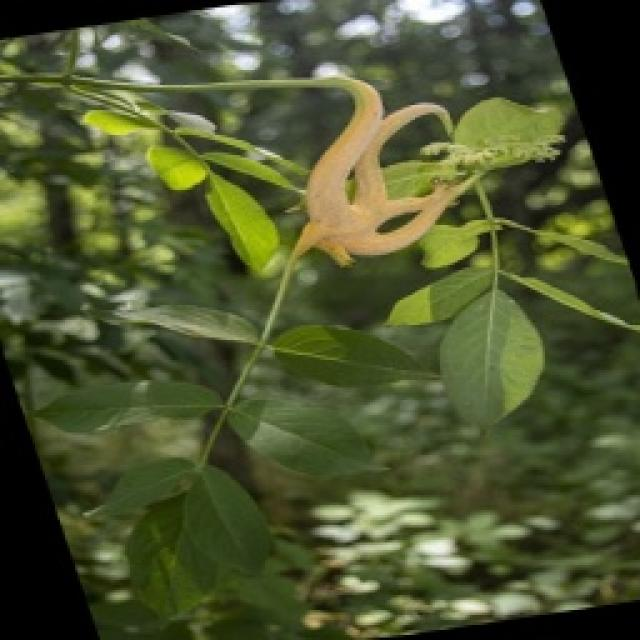Elderberry_rust: (285, 72, 475, 270)
